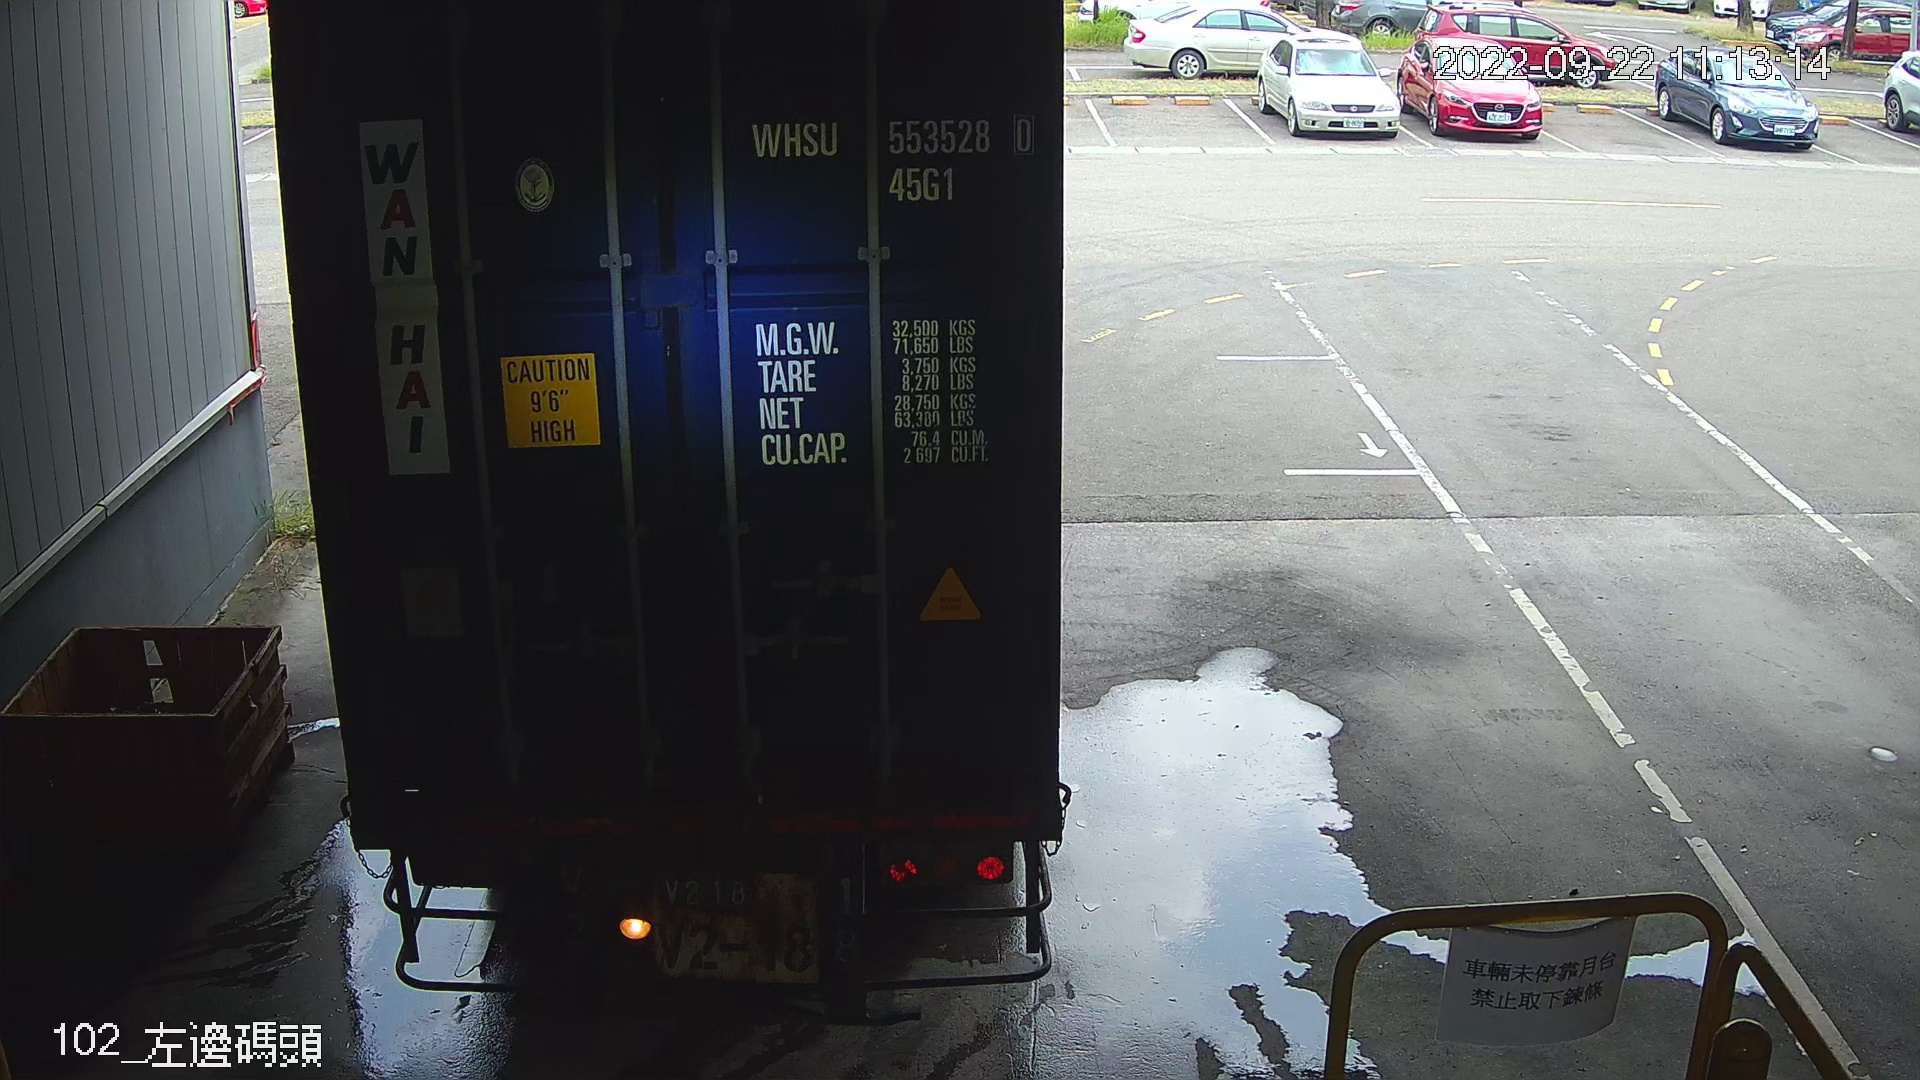container: (735, 105, 1044, 211)
